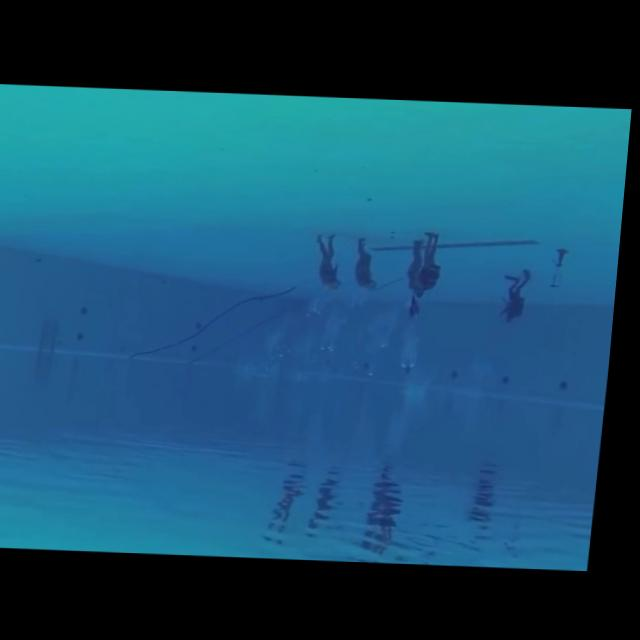human: (310, 225, 354, 295), (499, 263, 544, 329), (351, 233, 387, 294), (420, 228, 450, 300), (405, 237, 435, 299)
